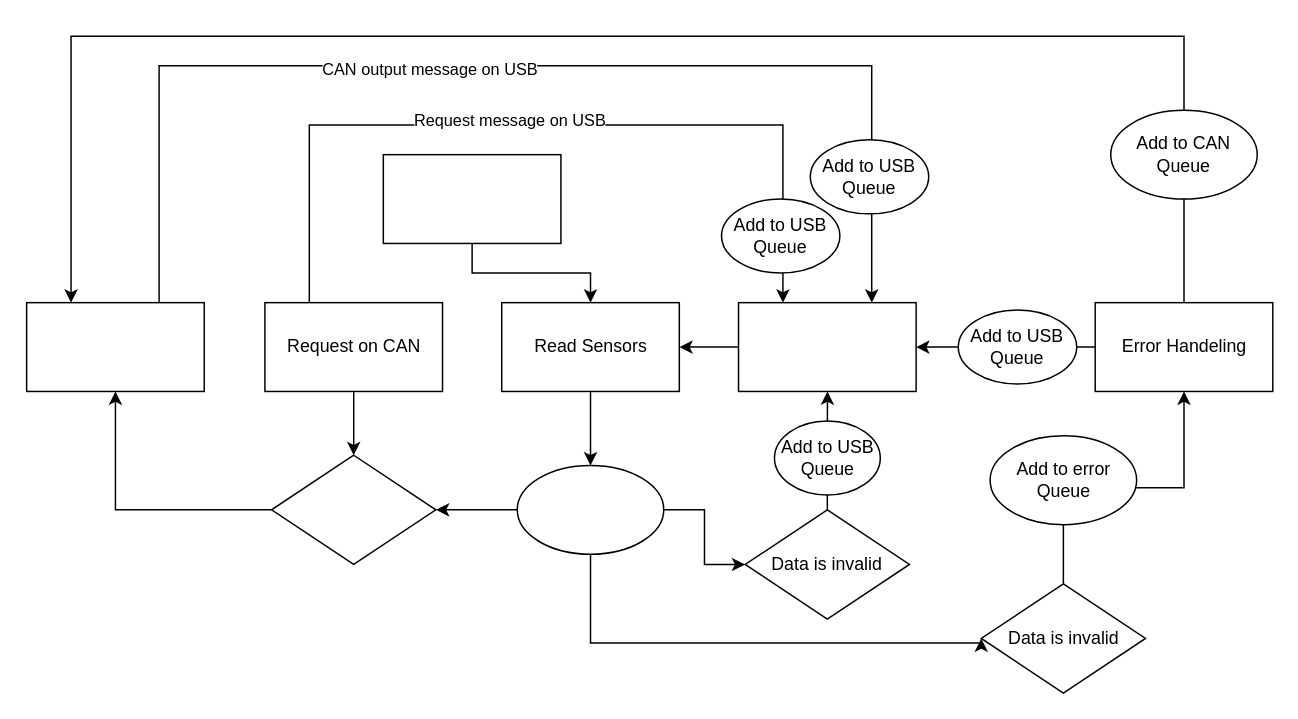
Some shapes in this 1298 by 719 pixel diagram are drawn without their labels. Each missing label, with the centre of its shape:
"Data is requested" goes at [353,509].
"Output CAN" goes at [114,346].
"Output USB" goes at [826,346].
"Program Starts" goes at [471,198].
"Store Sensor Data" goes at [590,509].
